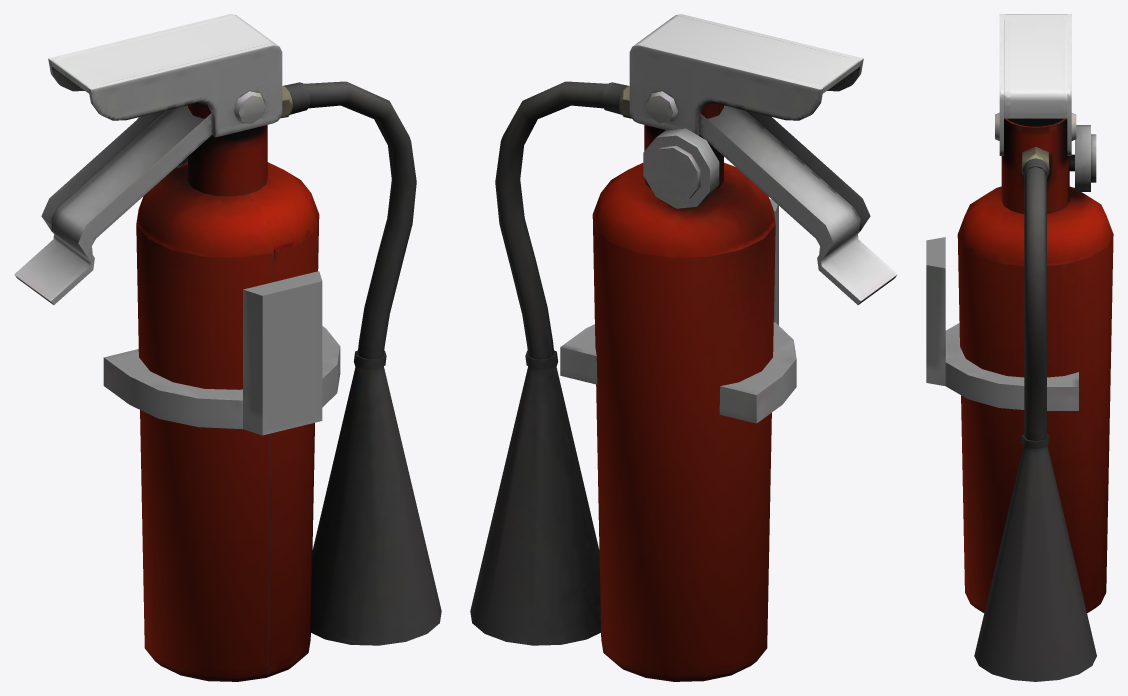
3 views of the same model, side by side, from view 1: azimuth 30°, elevation 25°; view 2: azimuth 150°, elevation 25°; view 3: azimuth 270°, elevation 25° (orthographic). The views are drawn at different scales.
Visible parts, largest first — view 1: body0_model0_lod0_mesh0; view 2: body0_model0_lod0_mesh0; view 3: body0_model0_lod0_mesh0.
Part boxes in pixels (x1,y1,x2,y2): body0_model0_lod0_mesh0: (14, 14, 441, 681); body0_model0_lod0_mesh0: (470, 14, 897, 681); body0_model0_lod0_mesh0: (926, 14, 1113, 681).
Bounding box in the file's own units: 18.21 × 26.73 × 8.74.
Materials: 1 (1 with a texture image).
